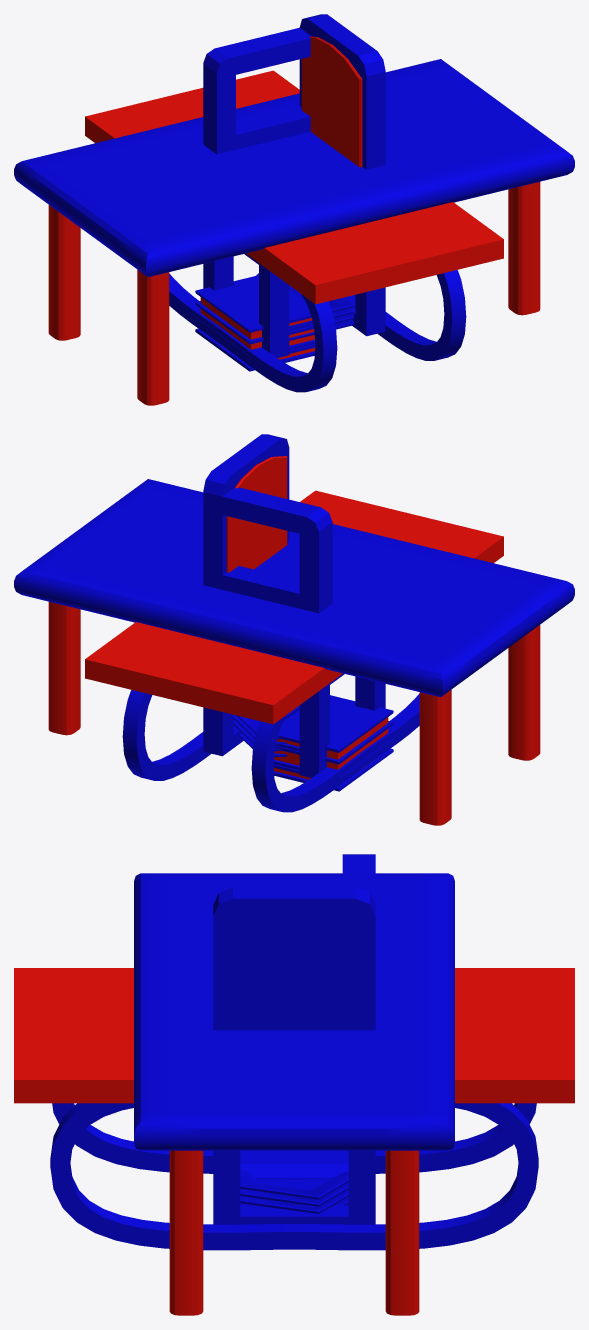
The model's file is FixedModels.glb.
The picture shows the model from 3 angles, top to bottom: view 1: azimuth 30°, elevation 25°; view 2: azimuth 150°, elevation 25°; view 3: azimuth 270°, elevation 25°; orthographic projection. The views are drawn at different scales.
Visible parts, largest first — view 1: Big_table, BezierCircle, Chair1, Chair2, Book3, Book2, PlateStack; view 2: Big_table, BezierCircle, Chair1, Chair2, Book3, Book2, PlateStack; view 3: Big_table, BezierCircle, Chair1, Chair2, PlateStack, Book3.
Part boxes in pixels (left/top/right/bottom): Big_table: left=14, top=59, right=574, bottom=405; BezierCircle: left=85, top=70, right=503, bottom=392; Chair1: left=203, top=14, right=385, bottom=357; Chair2: left=203, top=27, right=385, bottom=352; Book3: left=195, top=275, right=315, bottom=371; Book2: left=195, top=301, right=315, bottom=359; PlateStack: left=256, top=273, right=354, bottom=340; Big_table: left=14, top=479, right=574, bottom=825; BezierCircle: left=85, top=490, right=503, bottom=812; Chair1: left=203, top=434, right=385, bottom=777; Chair2: left=203, top=487, right=385, bottom=772; Book3: left=273, top=695, right=393, bottom=791; Book2: left=273, top=721, right=393, bottom=779; PlateStack: left=233, top=705, right=299, bottom=757; Big_table: left=134, top=873, right=454, bottom=1315; BezierCircle: left=14, top=968, right=574, bottom=1250; Chair1: left=213, top=887, right=375, bottom=1224; Chair2: left=213, top=854, right=375, bottom=1224; PlateStack: left=240, top=1169, right=348, bottom=1213; Book3: left=240, top=1150, right=348, bottom=1205.
Size of the model in its own units: 7.41 by 4.75 by 6.9.
